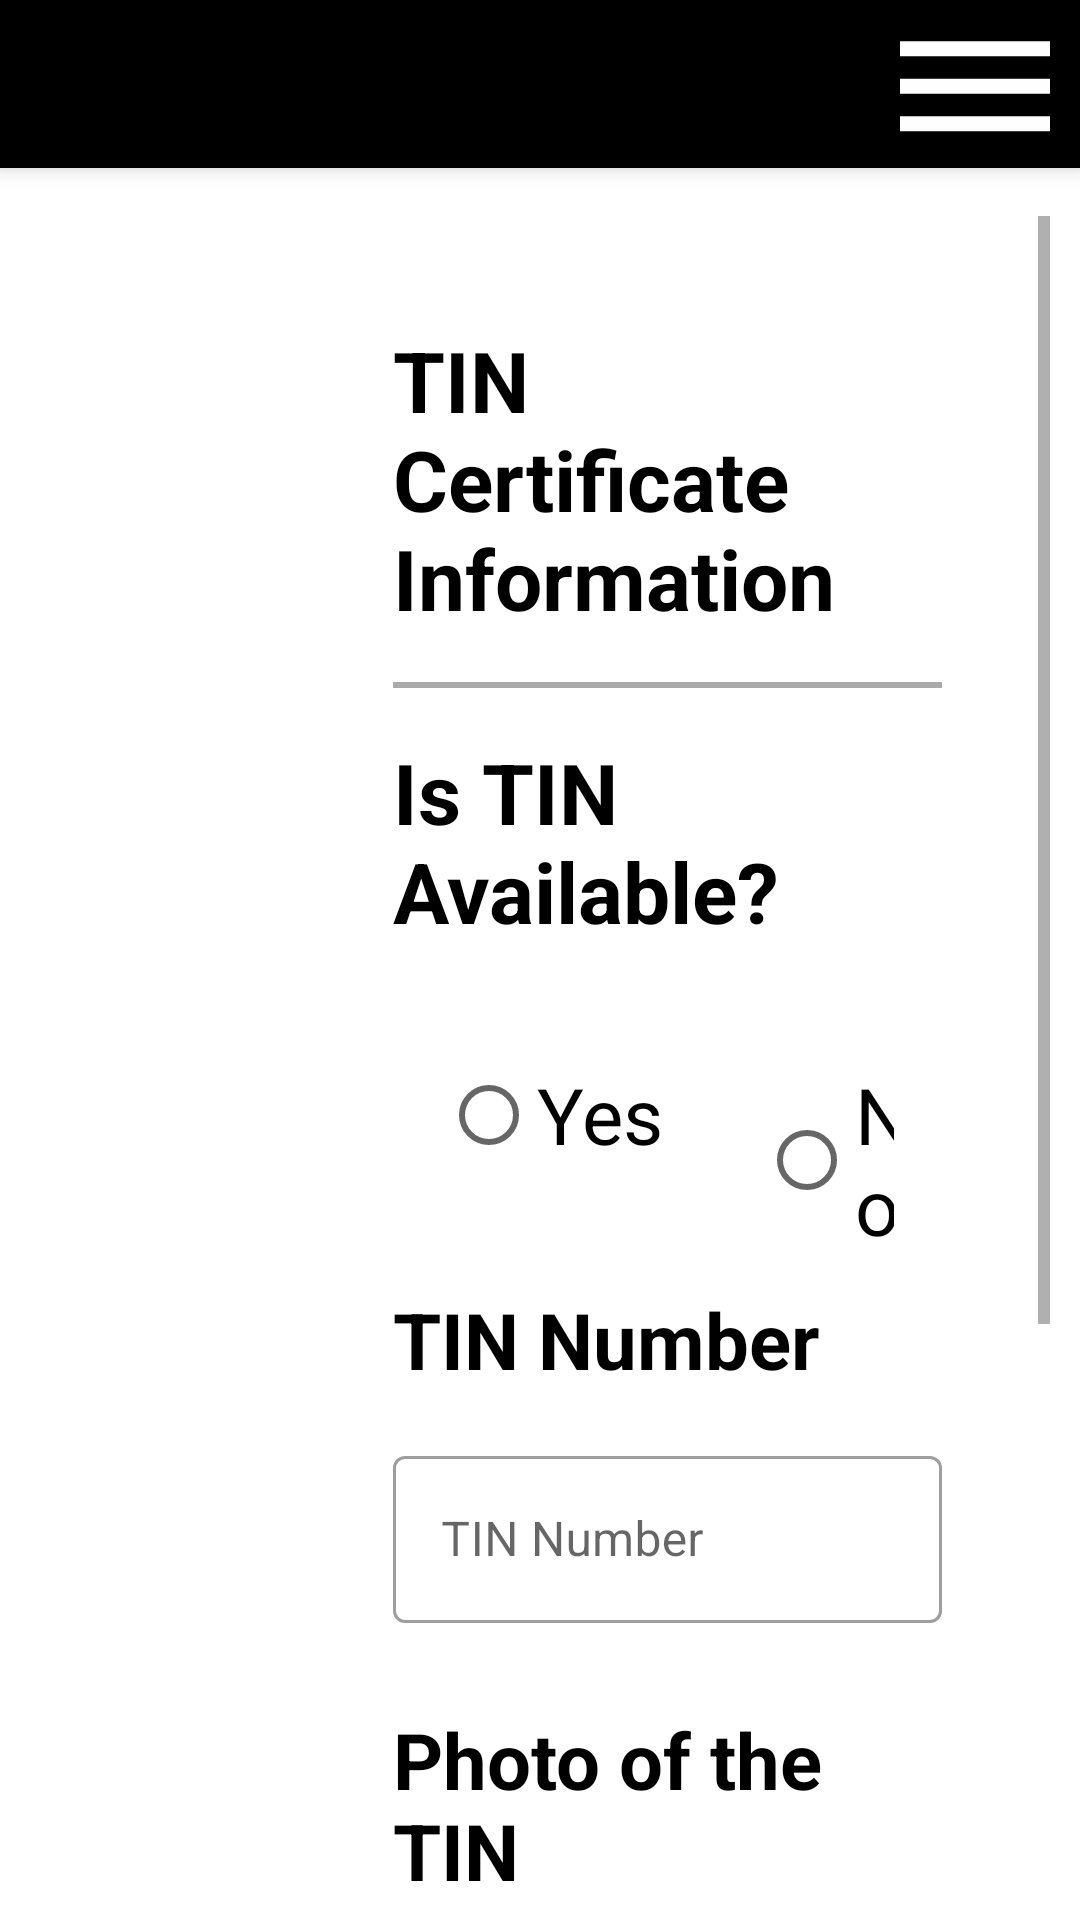

Named icons in this screenshot (1080px x 1920px) and their bounding boxes, (x1, y1, x2, y2):
dehaze: (900, 41, 1050, 132)
